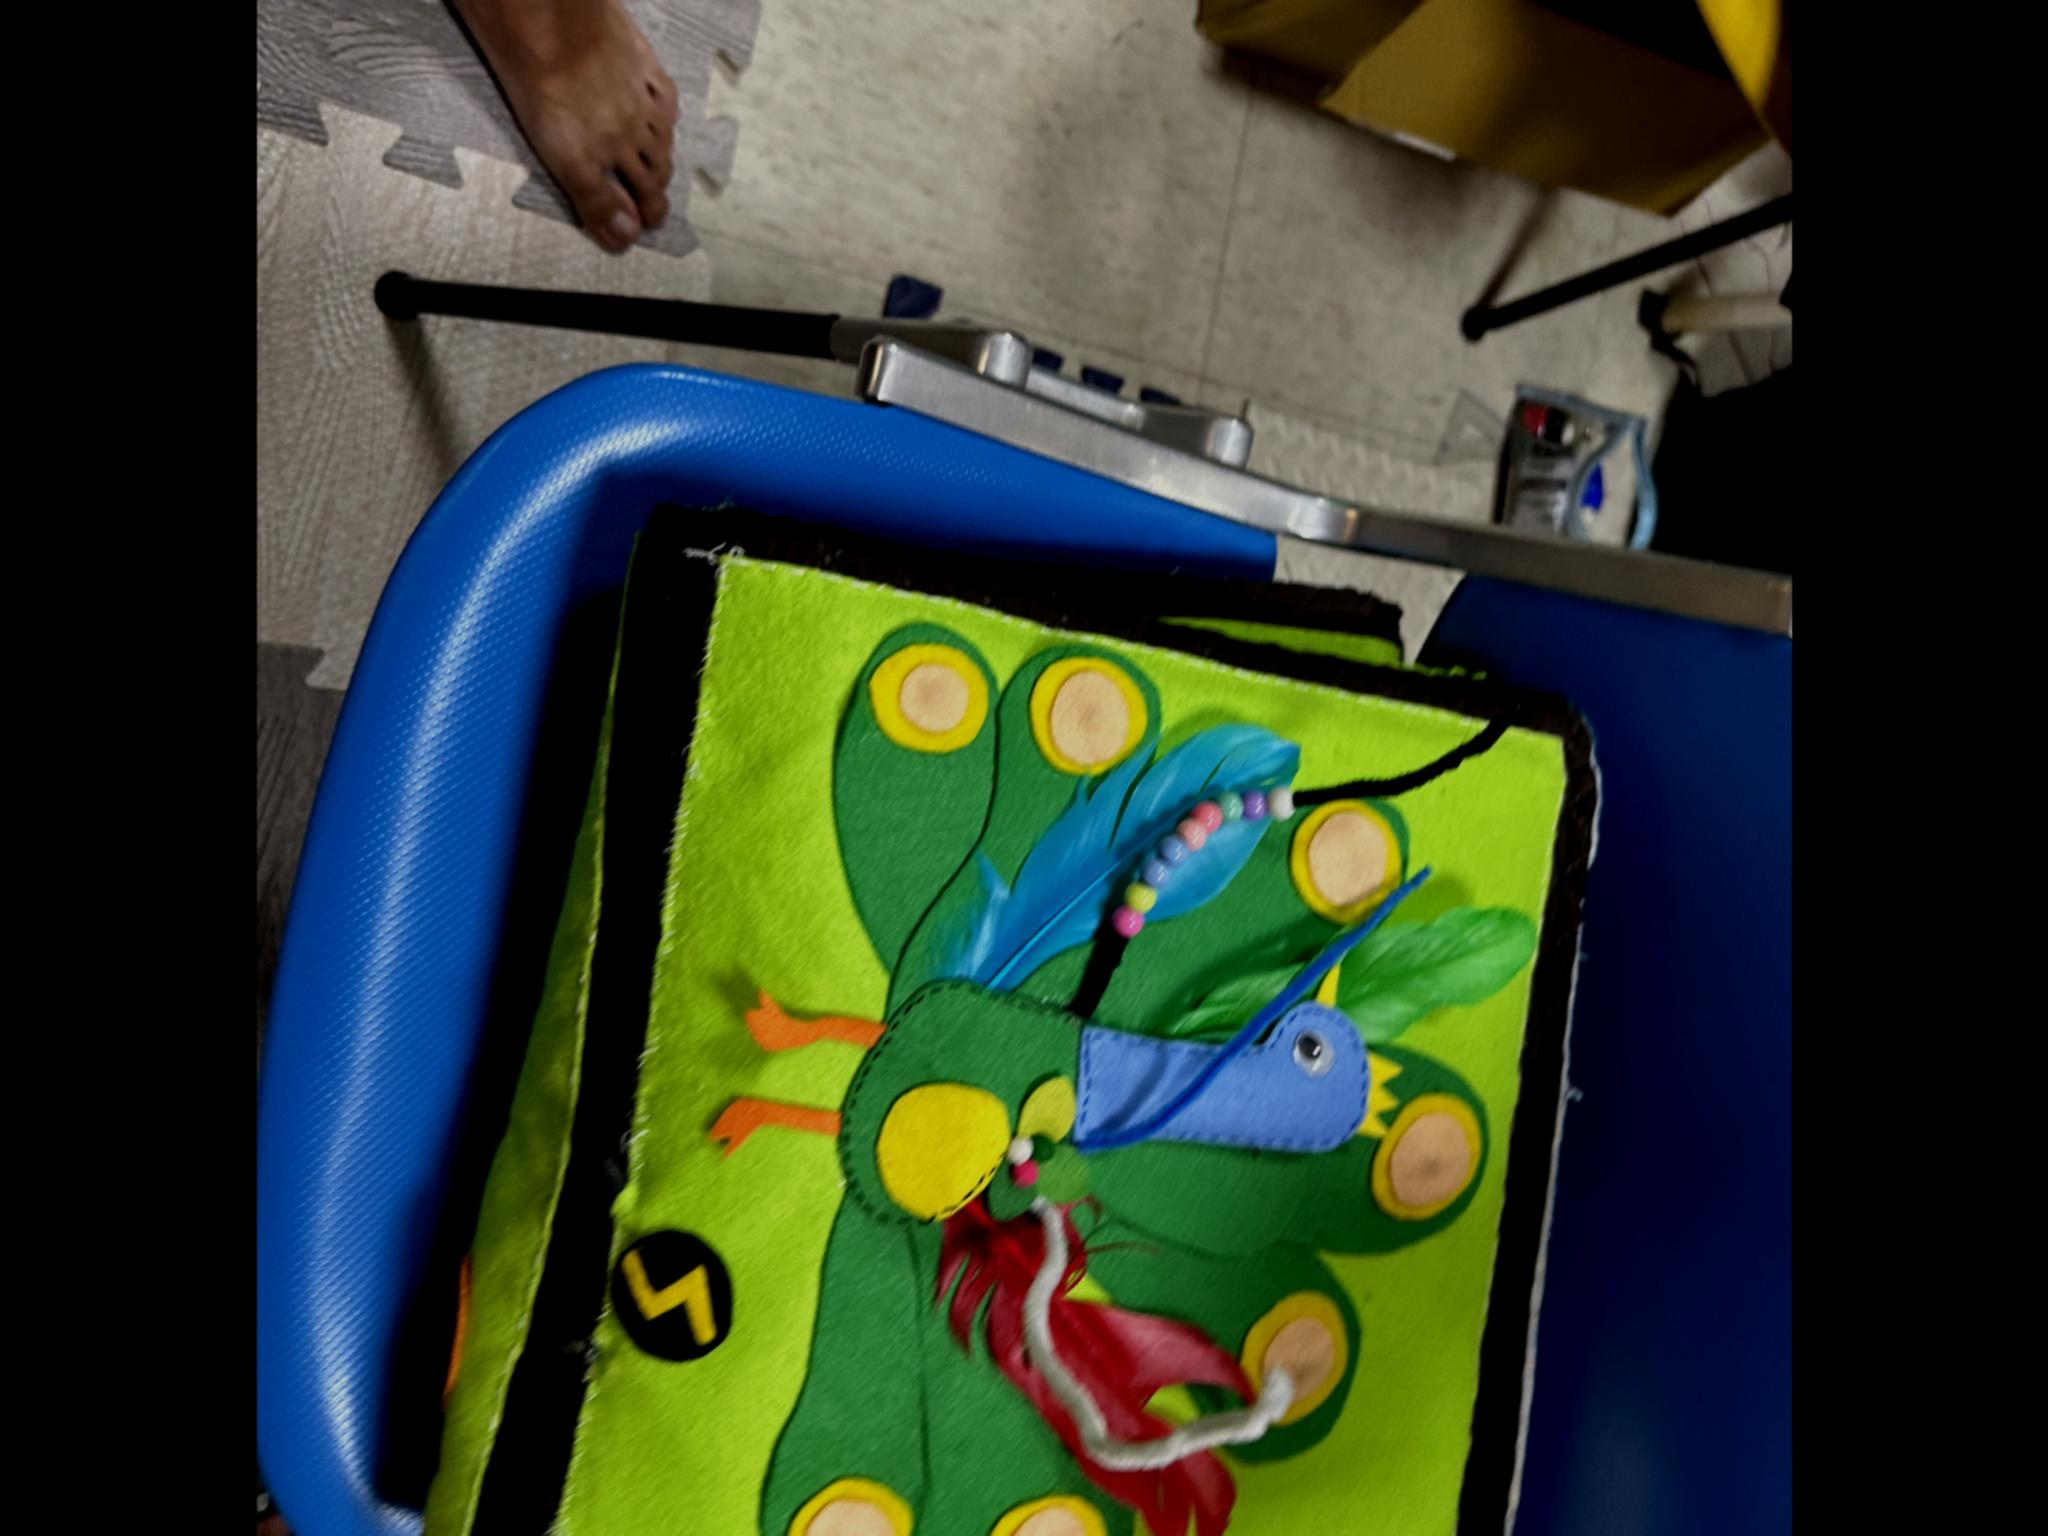bead: (1266, 778, 1297, 836), (1213, 787, 1242, 833), (1192, 799, 1216, 845), (1243, 784, 1269, 828), (1111, 913, 1145, 944), (1180, 815, 1205, 855), (1124, 886, 1161, 908), (1161, 834, 1179, 868), (1142, 863, 1166, 886)
